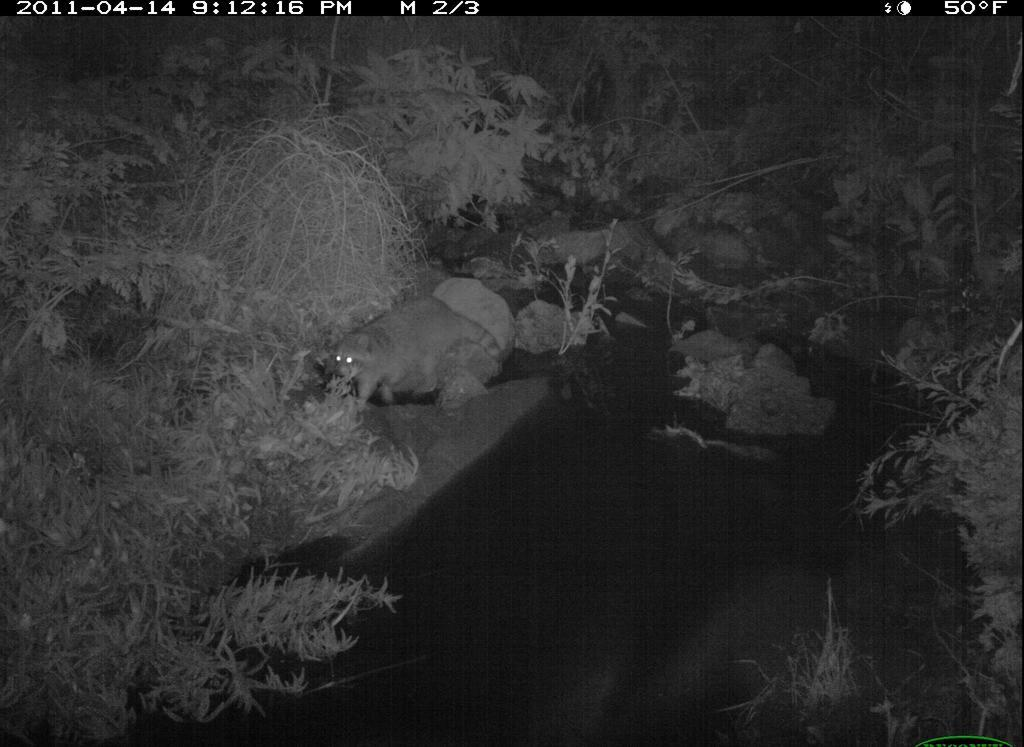raccoon: (328, 291, 516, 409)
